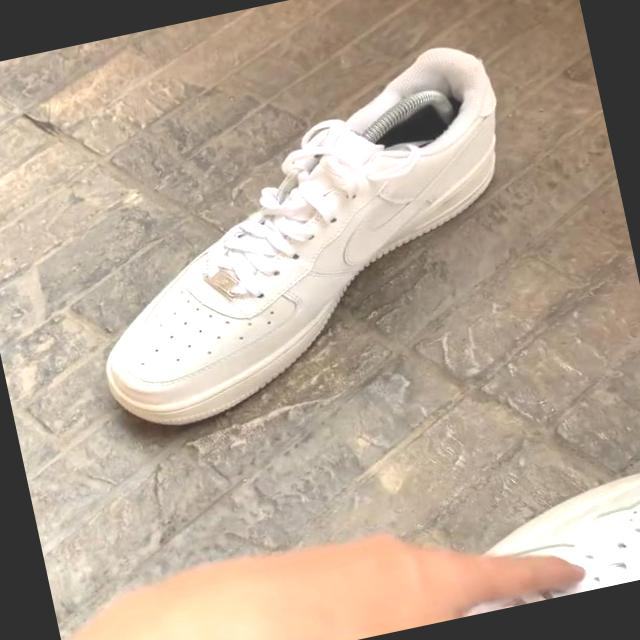nike_fake_airforce: (39, 42, 548, 444)
